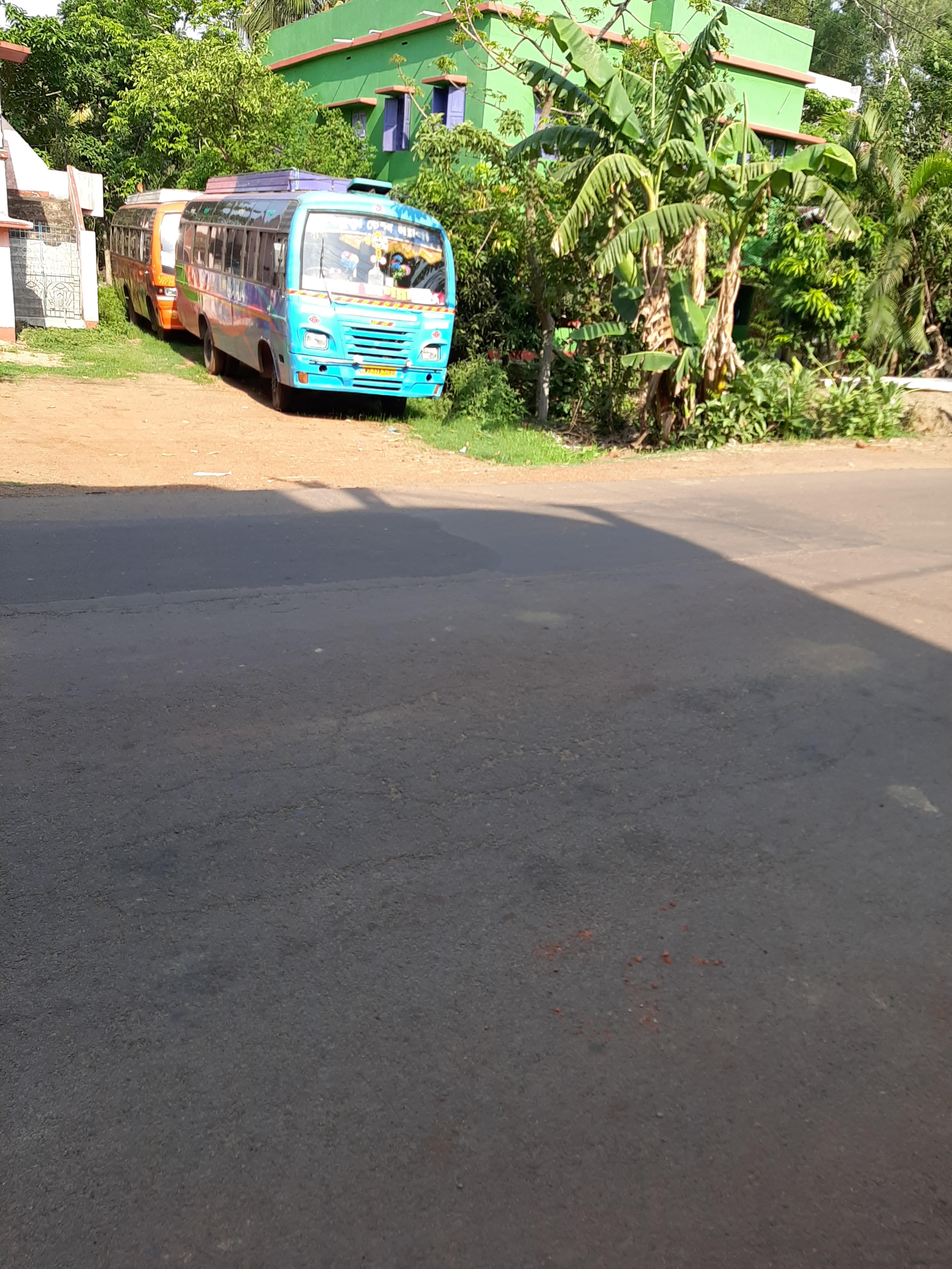Non-emergency: (111, 151, 487, 436)
